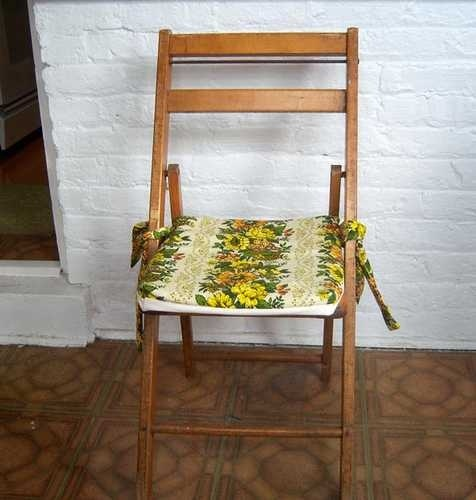obstacle: (138, 28, 357, 499)
